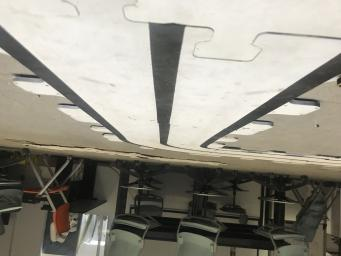street: (0, 0, 341, 147), (0, 0, 341, 147), (0, 0, 341, 147), (0, 0, 341, 147), (0, 0, 341, 147), (0, 0, 341, 147)
